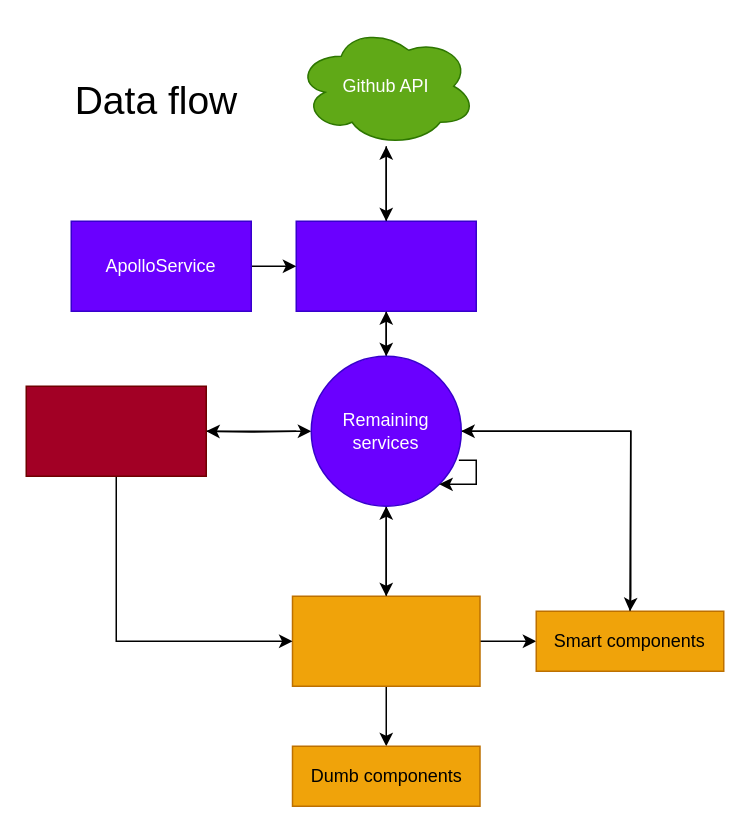
Some shapes in this 750 by 833 pixel diagram are drawn without their labels. The box of each missing label's shape, as (x1, y1, x2, y2) in pixels:
QueryService: (295, 220, 476, 311)
Routes: (291, 595, 480, 686)
Stores: (25, 385, 206, 476)
